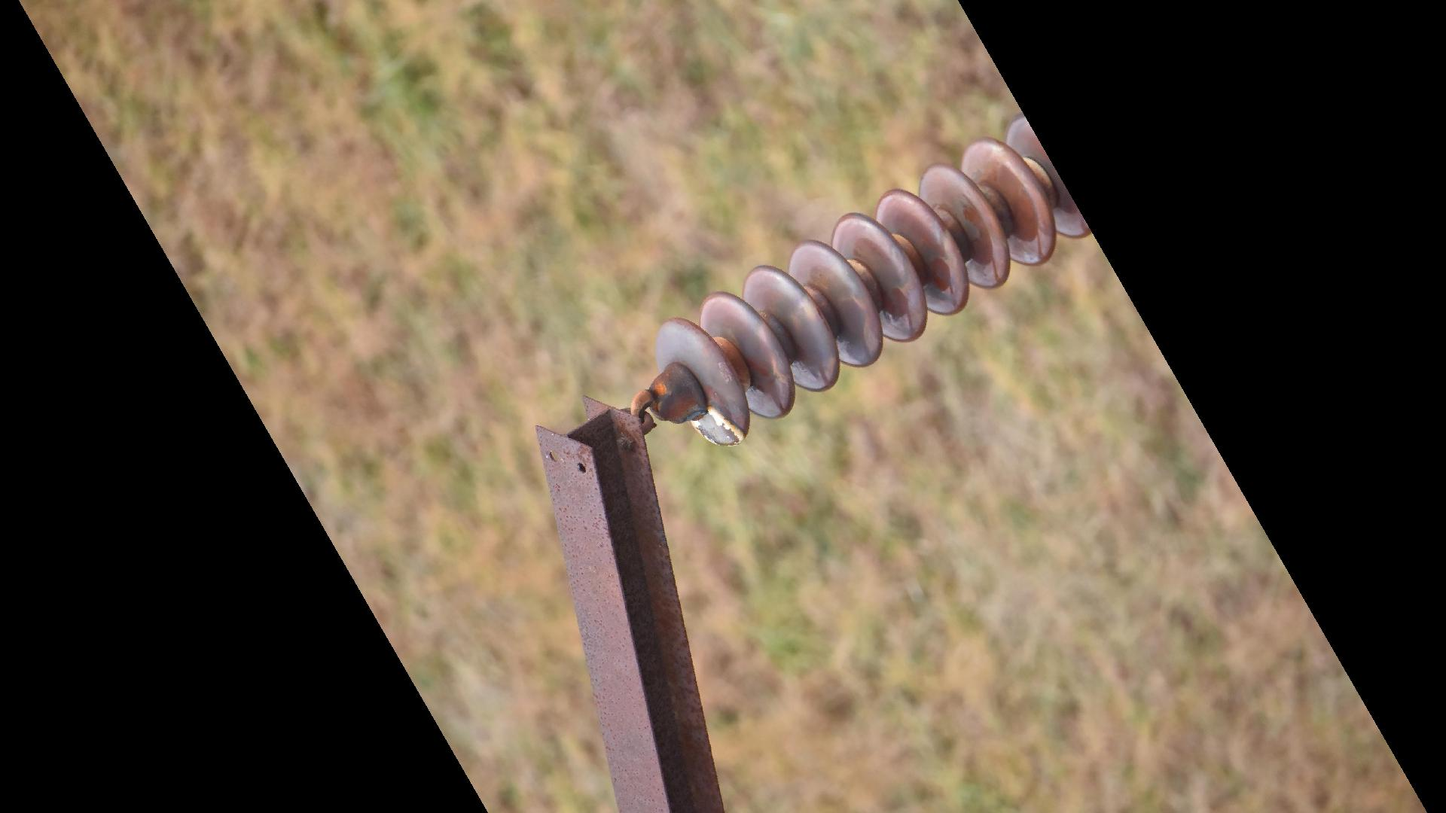insulator: (650, 112, 1097, 457)
insulator_flashover: (688, 403, 746, 449)
